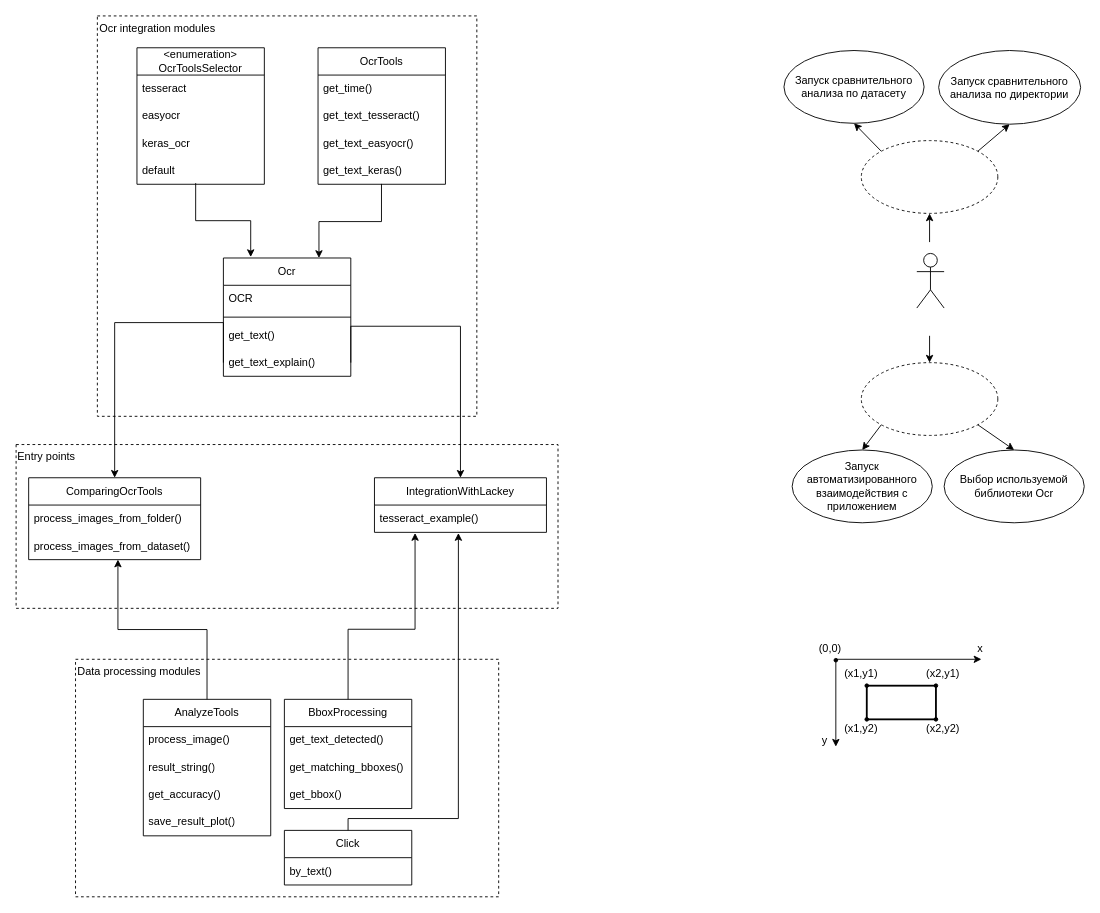
Some shapes in this 1100 by 913 pixel diagram are drawn without their labels. Each missing label, with the centre of its shape:
Автоматизация взаимодействия с приложением: the point at 929,398
Пользователь: the point at 930,280
Сравнительный анализ: the point at 929,176
